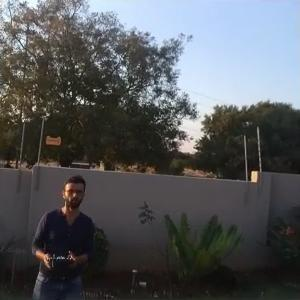follow: (26, 171, 98, 299)
